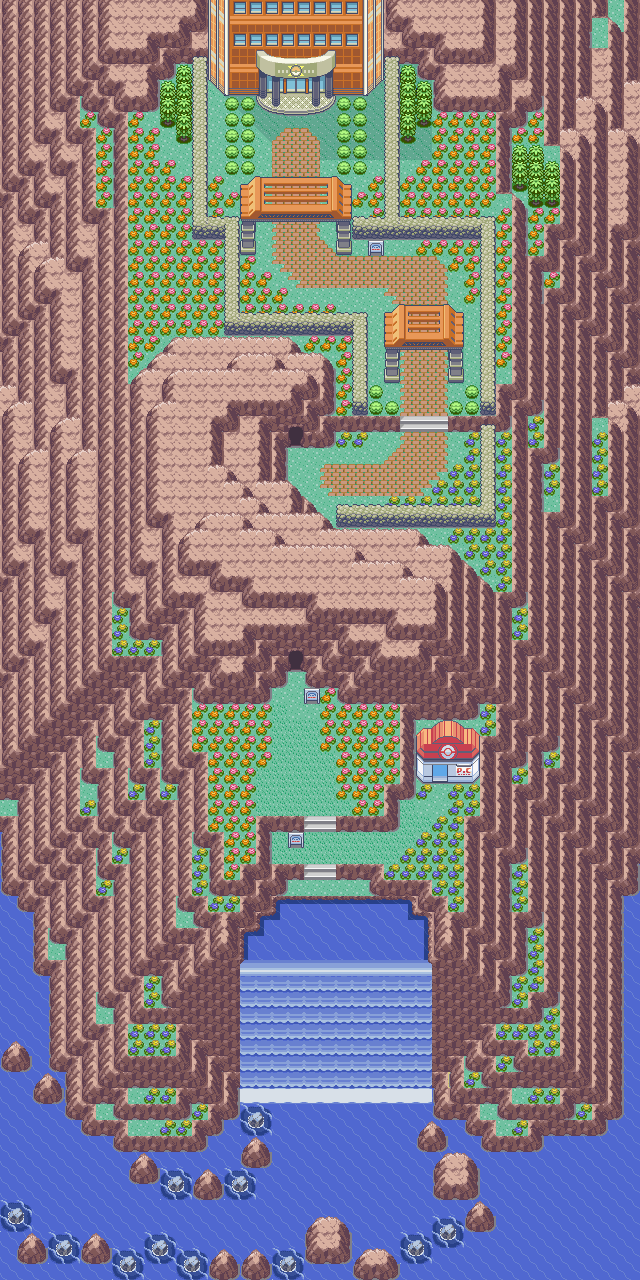cave: (277, 640, 313, 673), (281, 419, 312, 452)
misc: (252, 35, 338, 117)
pokemon_center: (412, 719, 482, 785)
